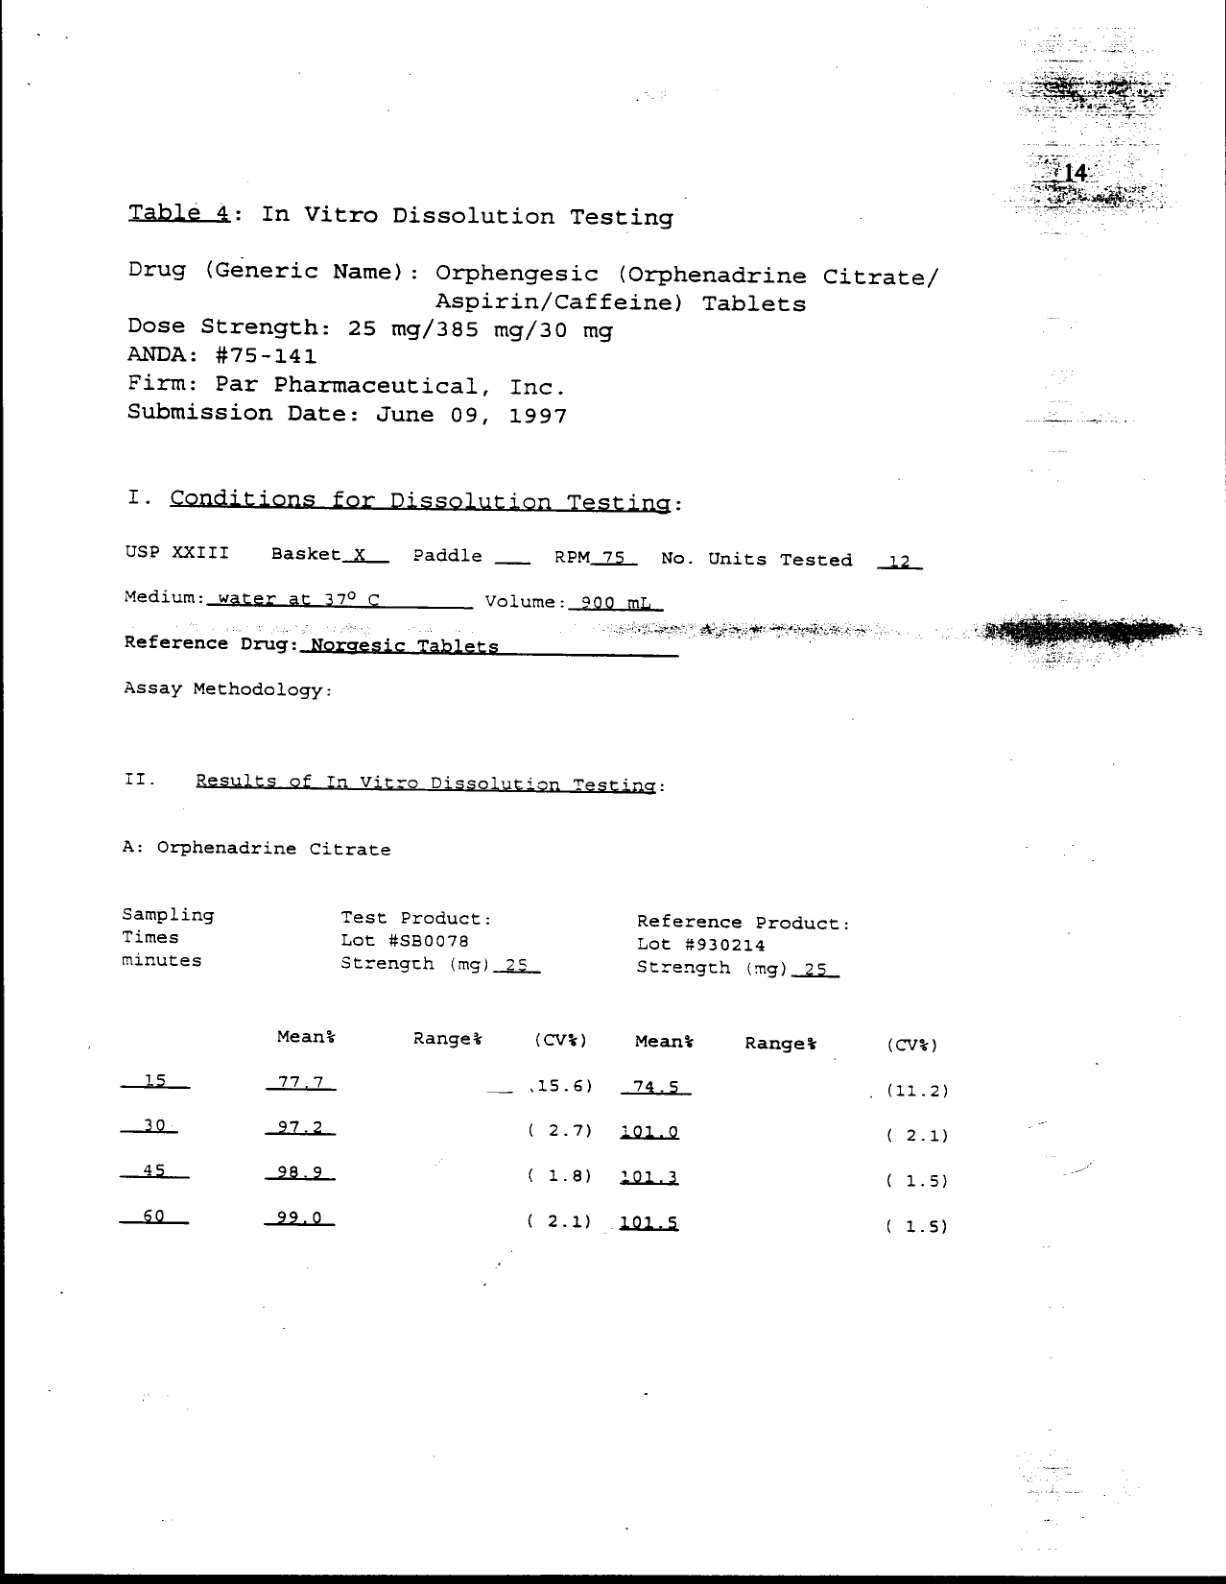nolines: (114, 1029, 950, 1237), (120, 903, 849, 982)
